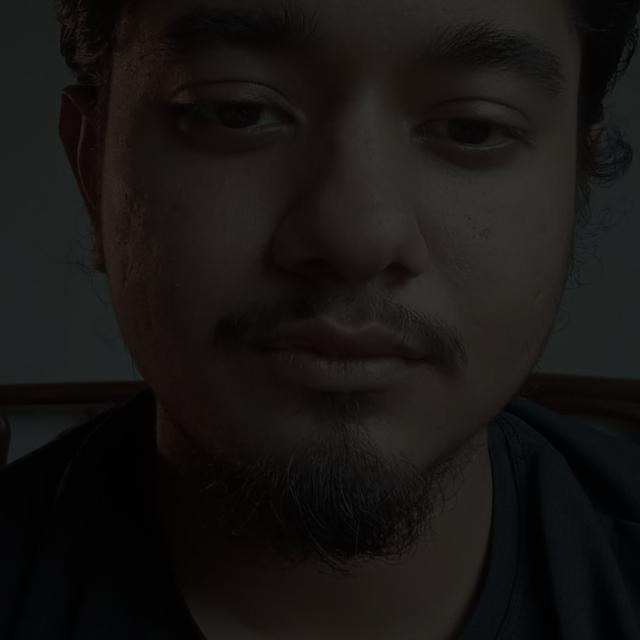Sad: (89, 0, 616, 558)
